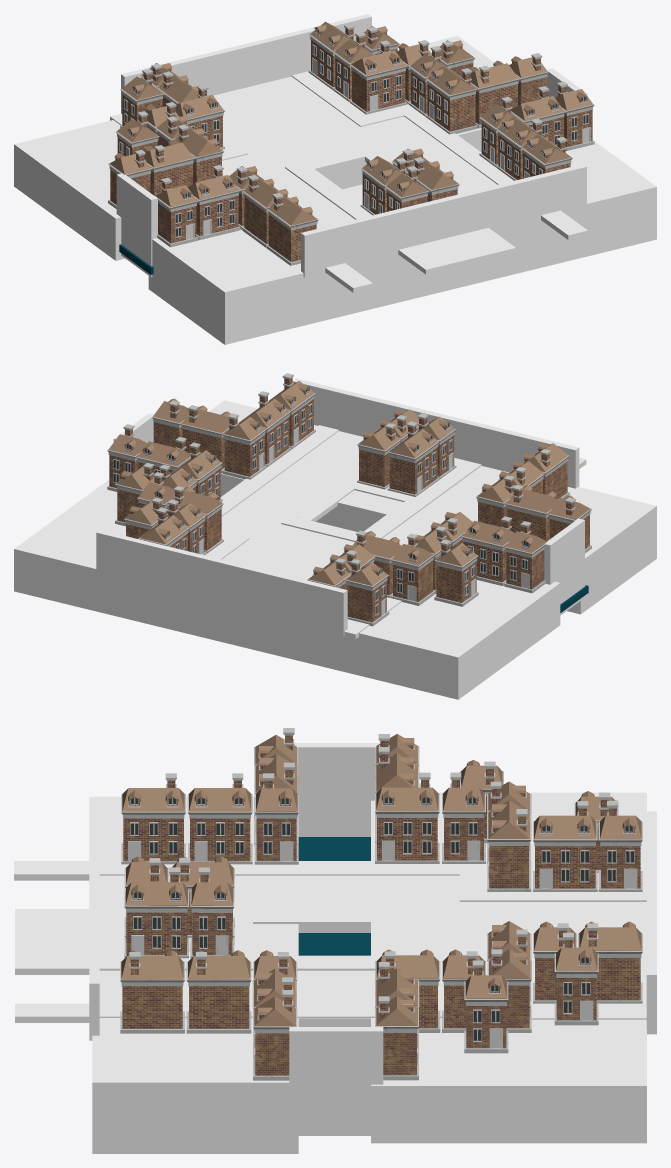
Rendered from level0.gltf.
3 renders of one model, top to bottom at view 1: azimuth 30°, elevation 25°; view 2: azimuth 150°, elevation 25°; view 3: azimuth 270°, elevation 25°, orthographic. The views are drawn at different scales.
Parts seen in each view (by area): view 1: CSGBox3D23, CSGBox3D2, CSGBox3D72, CSGBox3D62, CSGBox3D172, Bake9, CSGBox3D82, Bake11, Bake14, Bake33, Bake30, Bake12 (+35 smaller); view 2: CSGBox3D2, CSGBox3D23, CSGBox3D62, CSGBox3D72, Bake6, CSGBox3D82, Bake23, Bake26, Bake28, Bake22, Bake15, Bake29 (+36 smaller); view 3: CSGBox3D2, CSGBox3D23, CSGBox3D92, CSGBox3D172, CSGBox3D82, Bake24, Bake25, Bake27, Bake4, CSGBox3D152, Bake32, Bake8 (+40 smaller).
Boxes of the visible parts, x1,y1,x2,y2 form: CSGBox3D23: (148,140,656,344); CSGBox3D2: (14,36,494,260); CSGBox3D72: (301,164,586,277); CSGBox3D62: (121,14,371,113); CSGBox3D172: (338,199,515,274); Bake9: (350,40,407,114); CSGBox3D82: (116,173,157,277); Bake11: (425,66,477,134); Bake14: (187,165,240,239); Bake33: (266,193,318,265); Bake30: (155,177,198,247); Bake12: (470,60,519,128); CSGBox3D2: (14,479,560,699); CSGBox3D23: (209,400,656,614); CSGBox3D62: (96,530,347,636); CSGBox3D72: (292,378,579,488); Bake6: (387,421,439,496); CSGBox3D82: (544,518,584,615); Bake23: (434,539,478,606); Bake26: (222,413,266,479); Bake28: (390,533,435,605); Bake22: (345,559,389,626); Bake15: (462,516,514,585); Bake29: (504,521,546,593); CSGBox3D2: (371,792,646,1143); CSGBox3D23: (92,796,298,1153); CSGBox3D92: (289,1027,383,1135); CSGBox3D172: (15,909,252,974); CSGBox3D82: (294,743,380,836); Bake24: (186,950,251,1033); Bake25: (120,950,184,1033); Bake27: (375,772,439,863); Bake4: (533,801,597,891); CSGBox3D152: (14,861,459,880); Bake32: (187,773,252,864); Bake8: (124,867,189,958).
Bounding box in the file's own units: 67.34 × 15.72 × 62.34.
20 materials, 2 textured.
